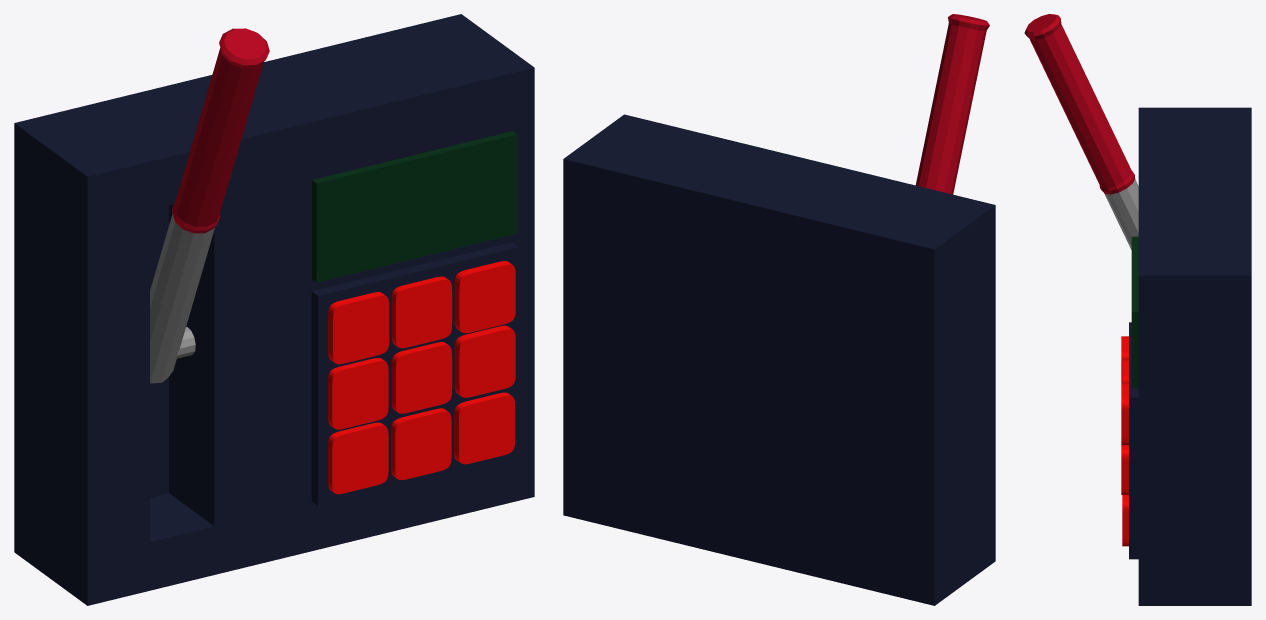
File: props.fbx_lever5.fbx
3 views of the same model, side by side, from view 1: azimuth 30°, elevation 25°; view 2: azimuth 150°, elevation 25°; view 3: azimuth 270°, elevation 25° (orthographic). The views are drawn at different scales.
Visible parts, largest first — view 1: Cube.004, Cylinder.004, Plane.027, Plane.015, Plane.028, Plane.043, Plane.014, Plane.024, Plane.026, Plane.025, Plane.029; view 2: Cube.004, Cylinder.004; view 3: Cube.004, Cylinder.004, Plane.028, Plane.027, Plane.043.
Part boxes in pixels (left/top/right/bottom): Cube.004: left=14, top=14, right=534, bottom=605; Cylinder.004: left=150, top=28, right=269, bottom=383; Plane.027: left=454, top=325, right=515, bottom=397; Plane.015: left=328, top=292, right=389, bottom=364; Plane.028: left=454, top=261, right=515, bottom=333; Plane.043: left=453, top=392, right=515, bottom=464; Plane.014: left=391, top=276, right=452, bottom=348; Plane.024: left=391, top=342, right=452, bottom=413; Plane.026: left=328, top=422, right=388, bottom=494; Plane.025: left=328, top=358, right=388, bottom=429; Plane.029: left=391, top=408, right=451, bottom=479; Cube.004: left=563, top=114, right=995, bottom=605; Cylinder.004: left=915, top=14, right=989, bottom=194; Cube.004: left=1129, top=107, right=1251, bottom=605; Cylinder.004: left=1024, top=14, right=1138, bottom=249; Plane.028: left=1121, top=383, right=1128, bottom=445; Plane.027: left=1121, top=445, right=1128, bottom=494; Plane.043: left=1122, top=495, right=1128, bottom=546.
Size of the model in its own units: 0.3327 by 0.4217 by 0.1902.
